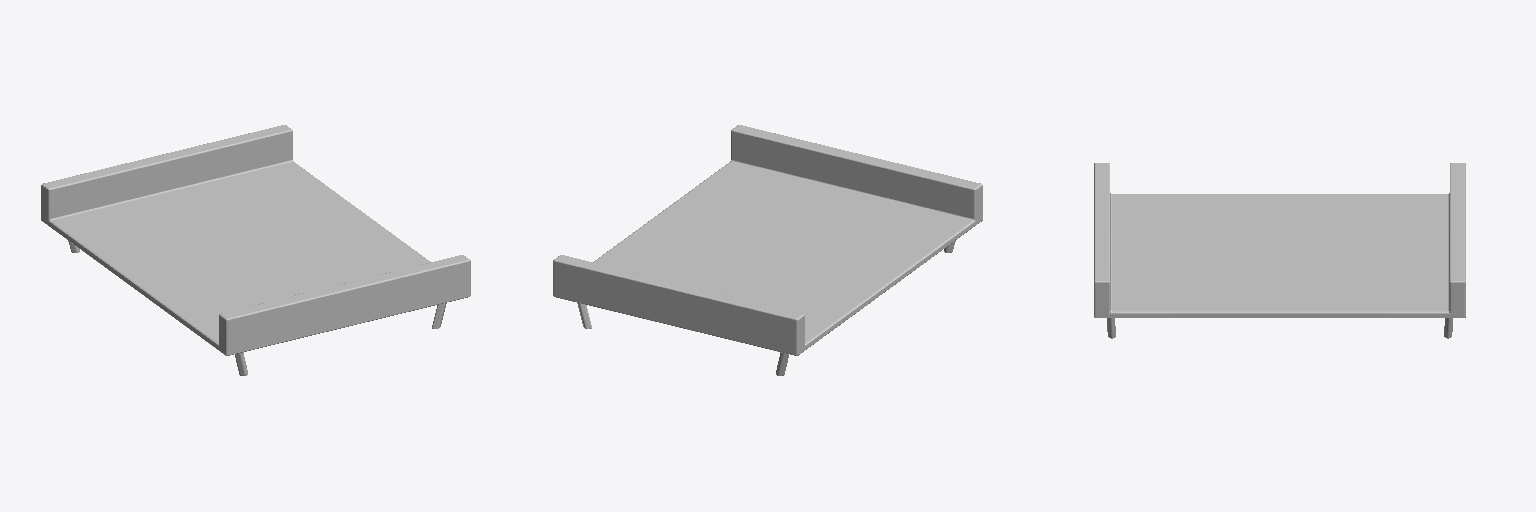
File: bed.obj
3 views of the same model, side by side, from view 1: azimuth 30°, elevation 25°; view 2: azimuth 150°, elevation 25°; view 3: azimuth 270°, elevation 25° (orthographic).
Visible parts, largest first — view 1: Bed; view 2: Bed; view 3: Bed.
Part boxes in pixels (x1,y1,x2,y2): Bed: (41,125,470,375); Bed: (553,125,982,375); Bed: (1094,163,1465,338).
Size of the model in its own units: 1.98 by 0.5295 by 2.6.